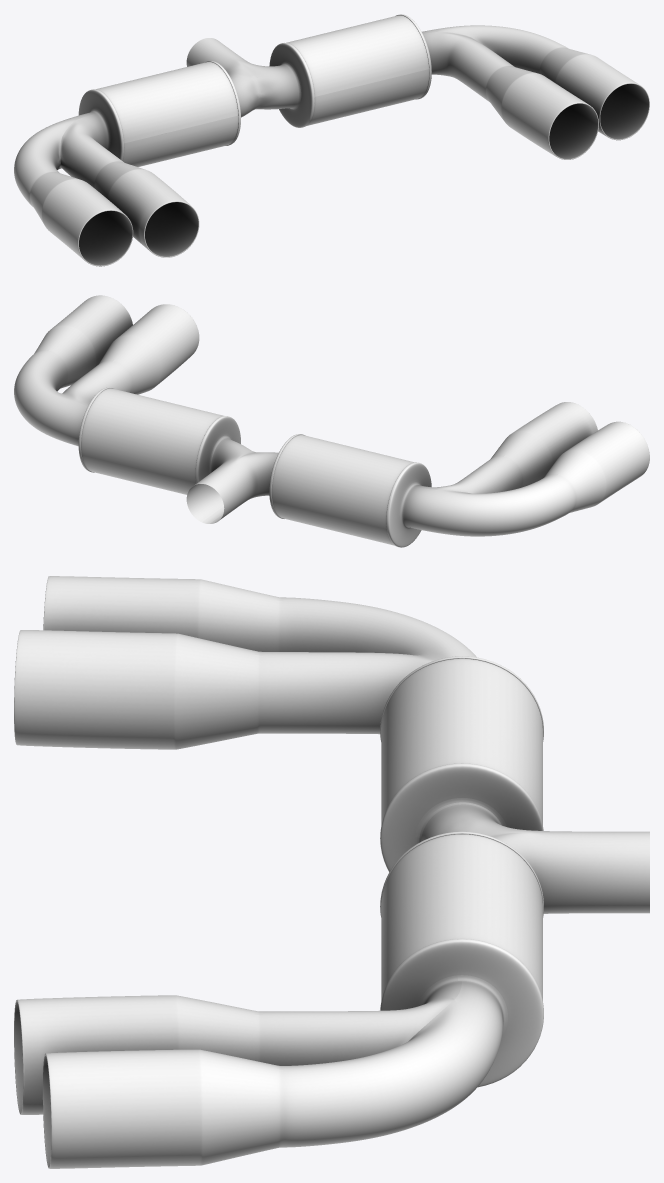
Rendered from Exhaust1.gltf.
The picture shows the model from 3 angles, top to bottom: view 1: azimuth 30°, elevation 25°; view 2: azimuth 150°, elevation 25°; view 3: azimuth 270°, elevation 25°; orthographic projection. The views are drawn at different scales.
Visible parts, largest first — view 1: Object_2; view 2: Object_2; view 3: Object_2.
Part boxes in pixels (x1,y1,x2,y2): Object_2: (14, 14, 649, 266); Object_2: (14, 295, 649, 547); Object_2: (14, 576, 649, 1168).
Size of the model in its own units: 11.57 by 1.52 by 5.91.
1 material, 1 textured.
